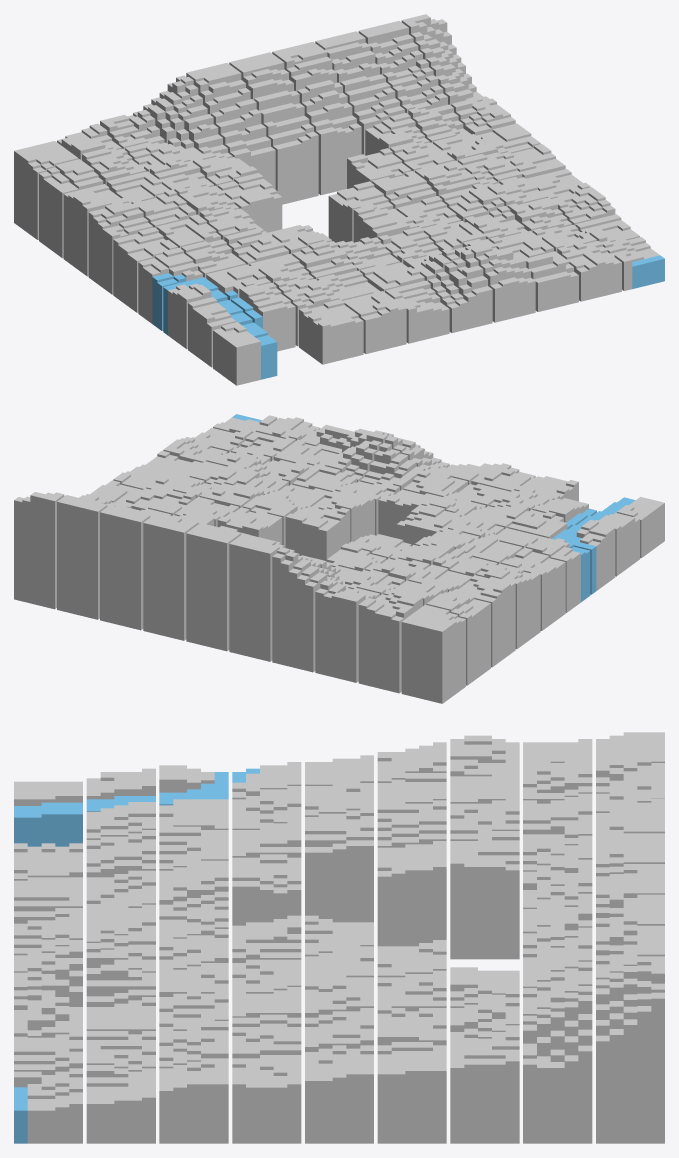
Rendered from context_upper_left.glb.
3 renders of one model, top to bottom at view 1: azimuth 30°, elevation 25°; view 2: azimuth 150°, elevation 25°; view 3: azimuth 270°, elevation 25°, orthographic. The views are drawn at different scales.
Visible parts, largest first — view 1: ctx_upper_left; view 2: ctx_upper_left; view 3: ctx_upper_left.
Boxes of the visible parts, x1=… form: ctx_upper_left: x1=14, y1=14, x2=664, y2=385; ctx_upper_left: x1=14, y1=414, x2=664, y2=703; ctx_upper_left: x1=14, y1=732, x2=664, y2=1143.
Bounding box in the file's own units: 99.5 × 24 × 89.5.
